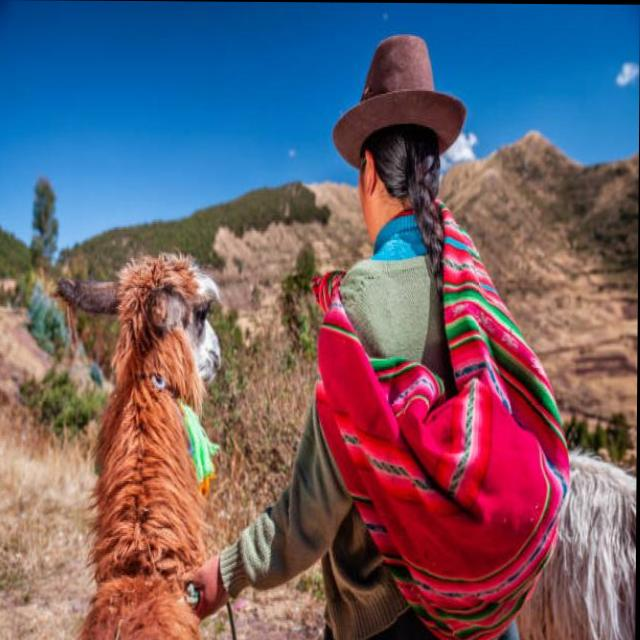no helmet: (319, 11, 477, 232)
